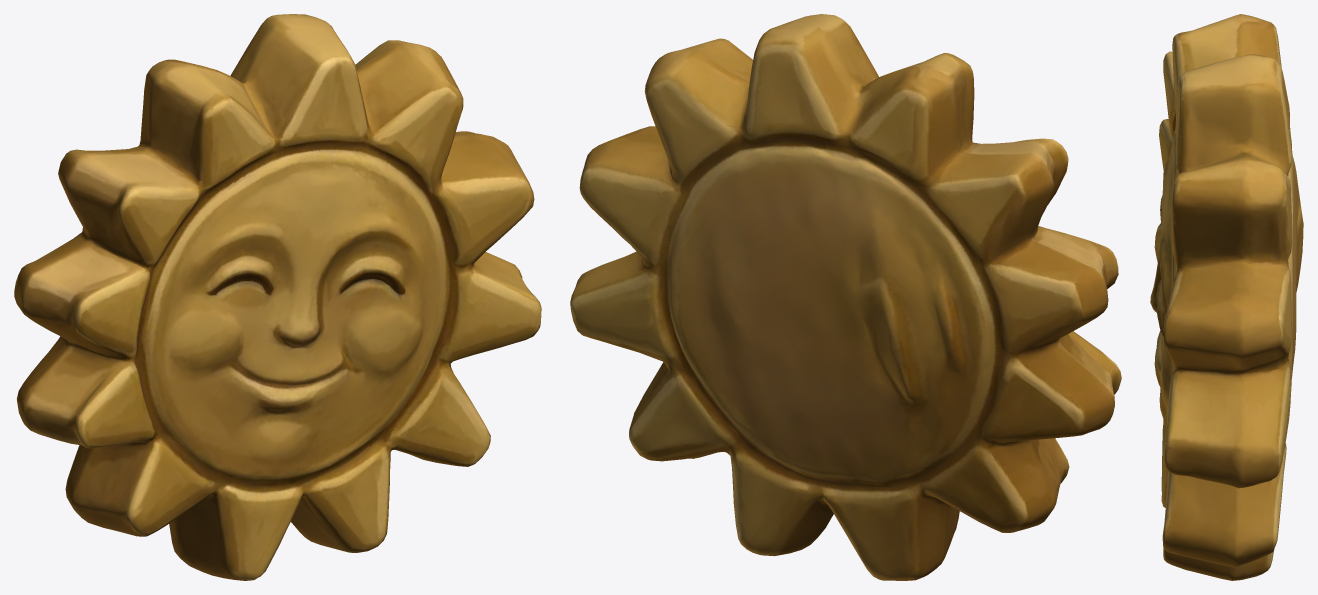
Rendered from sun.glb.
3 views of the same model, side by side, from view 1: azimuth 30°, elevation 25°; view 2: azimuth 150°, elevation 25°; view 3: azimuth 270°, elevation 25° (orthographic). The views are drawn at different scales.
Parts seen in each view (by area): view 1: geometry_0; view 2: geometry_0; view 3: geometry_0.
Boxes of the visible parts, box(x1,y1,x2,y2) form: geometry_0: box(14, 14, 541, 580); geometry_0: box(570, 14, 1121, 580); geometry_0: box(1150, 14, 1303, 580).
Size of the model in its own units: 0.9113 by 0.8937 by 0.2478.
Materials: 1 (1 with a texture image).
